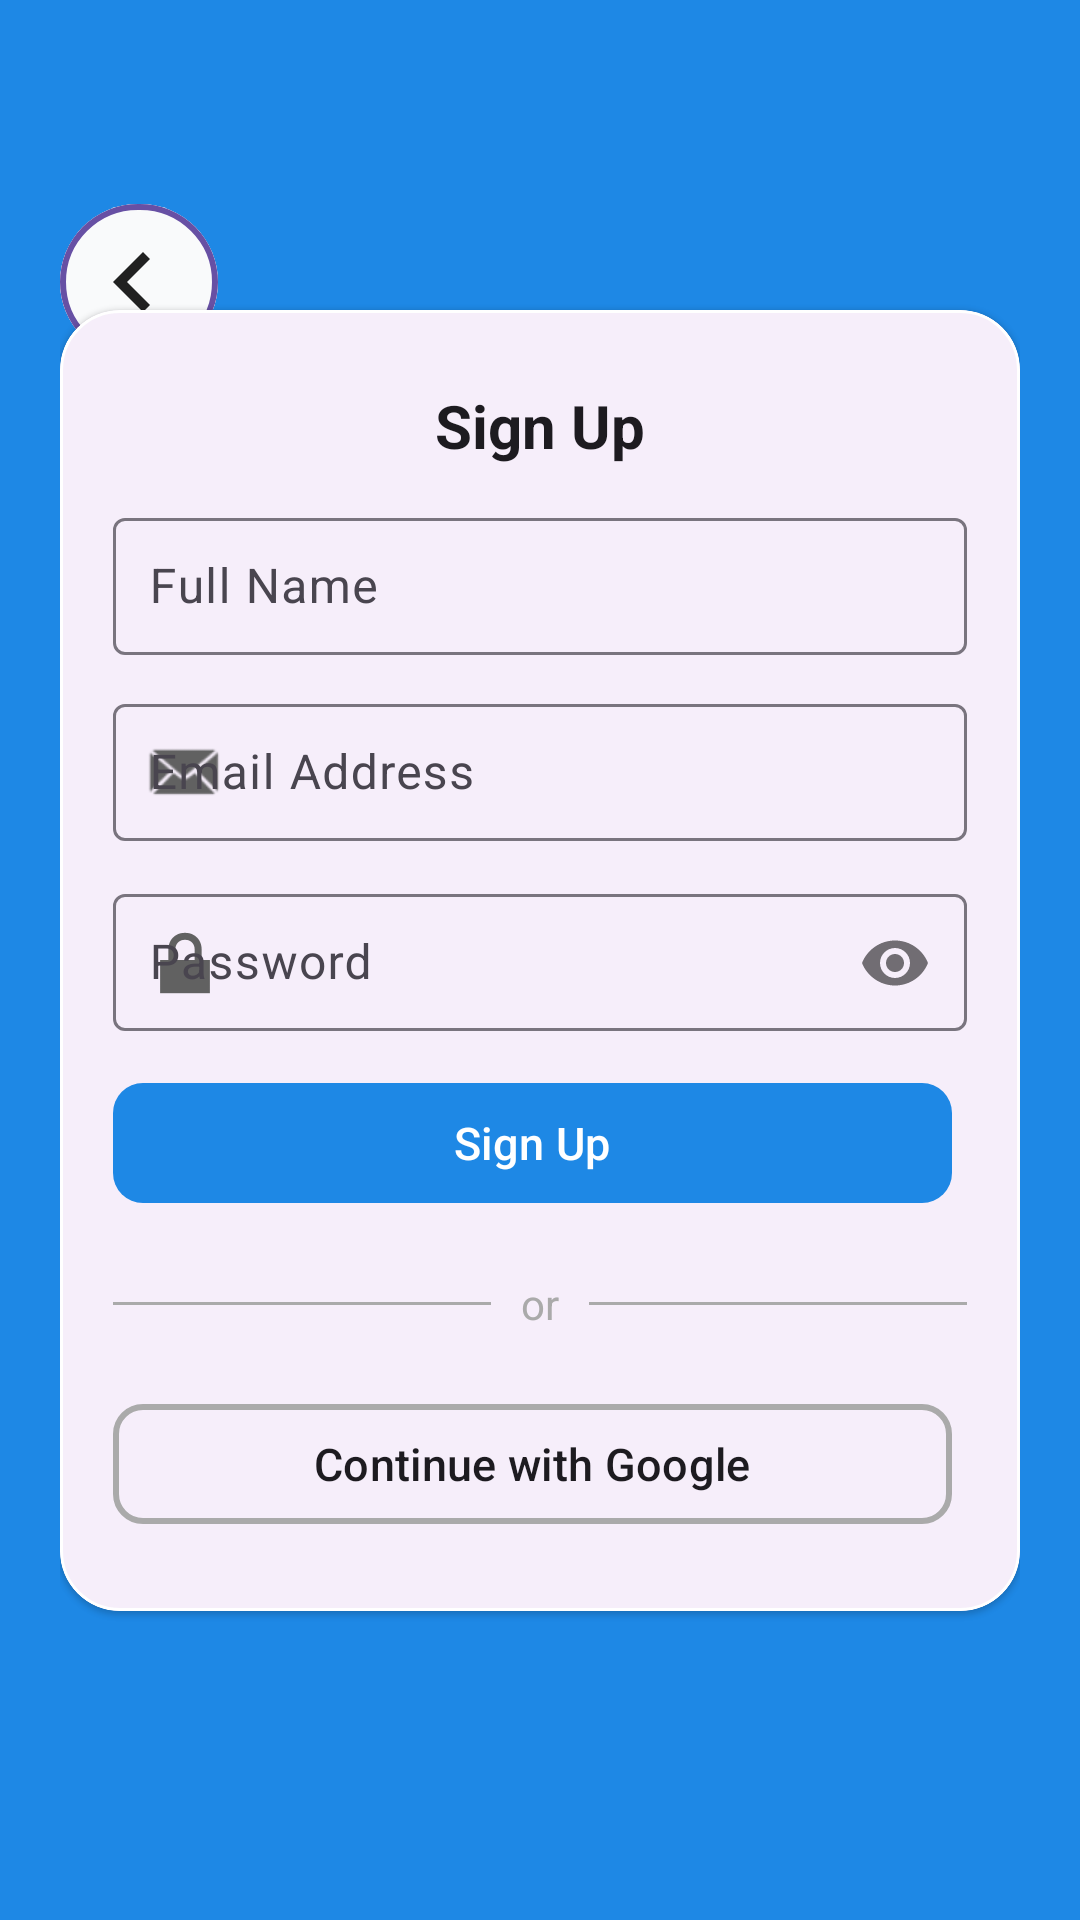

Icon click points for this 1080 × 1920 phone screenshot, format [x,y]:
chevron back: [139,288]
